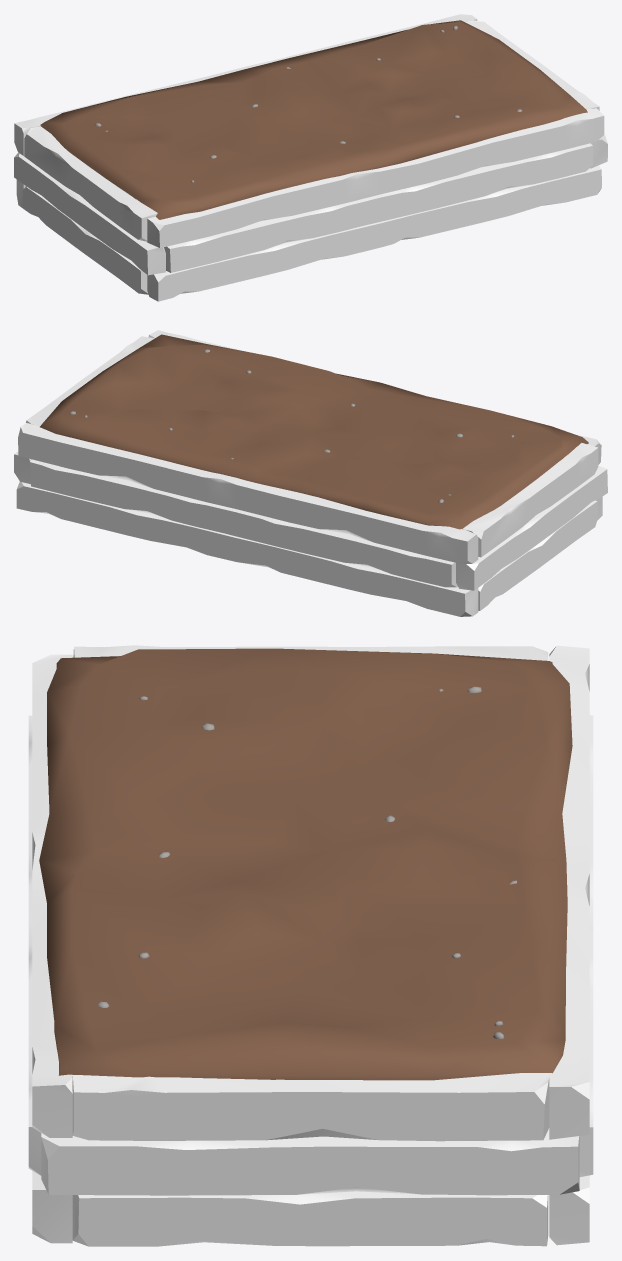
The model's file is SM_Env_Gardenbox_Double_01.obj.
3 renders of one model, top to bottom at view 1: azimuth 30°, elevation 25°; view 2: azimuth 150°, elevation 25°; view 3: azimuth 270°, elevation 25°, orthographic. The views are drawn at different scales.
Parts seen in each view (by area): view 1: SM_Env_Gardenbox_Double_01_Mat_SwatchOverlay_PolygonTown_01_Inst, SM_Env_Gardenbox_Double_01_Mat_SwatchOverlay_PolygonTown_01_Wood; view 2: SM_Env_Gardenbox_Double_01_Mat_SwatchOverlay_PolygonTown_01_Inst, SM_Env_Gardenbox_Double_01_Mat_SwatchOverlay_PolygonTown_01_Wood; view 3: SM_Env_Gardenbox_Double_01_Mat_SwatchOverlay_PolygonTown_01_Inst, SM_Env_Gardenbox_Double_01_Mat_SwatchOverlay_PolygonTown_01_Wood.
Boxes of the visible parts, bbox=[...] form: SM_Env_Gardenbox_Double_01_Mat_SwatchOverlay_PolygonTown_01_Inst: bbox=[40, 20, 587, 219]; SM_Env_Gardenbox_Double_01_Mat_SwatchOverlay_PolygonTown_01_Wood: bbox=[14, 14, 607, 301]; SM_Env_Gardenbox_Double_01_Mat_SwatchOverlay_PolygonTown_01_Inst: bbox=[40, 334, 588, 529]; SM_Env_Gardenbox_Double_01_Mat_SwatchOverlay_PolygonTown_01_Wood: bbox=[14, 330, 607, 616]; SM_Env_Gardenbox_Double_01_Mat_SwatchOverlay_PolygonTown_01_Inst: bbox=[39, 648, 572, 1090]; SM_Env_Gardenbox_Double_01_Mat_SwatchOverlay_PolygonTown_01_Wood: bbox=[28, 645, 593, 1246].
Bounding box in the file's own units: 3.93 × 0.7572 × 2.09.
2 materials, 2 textured.
